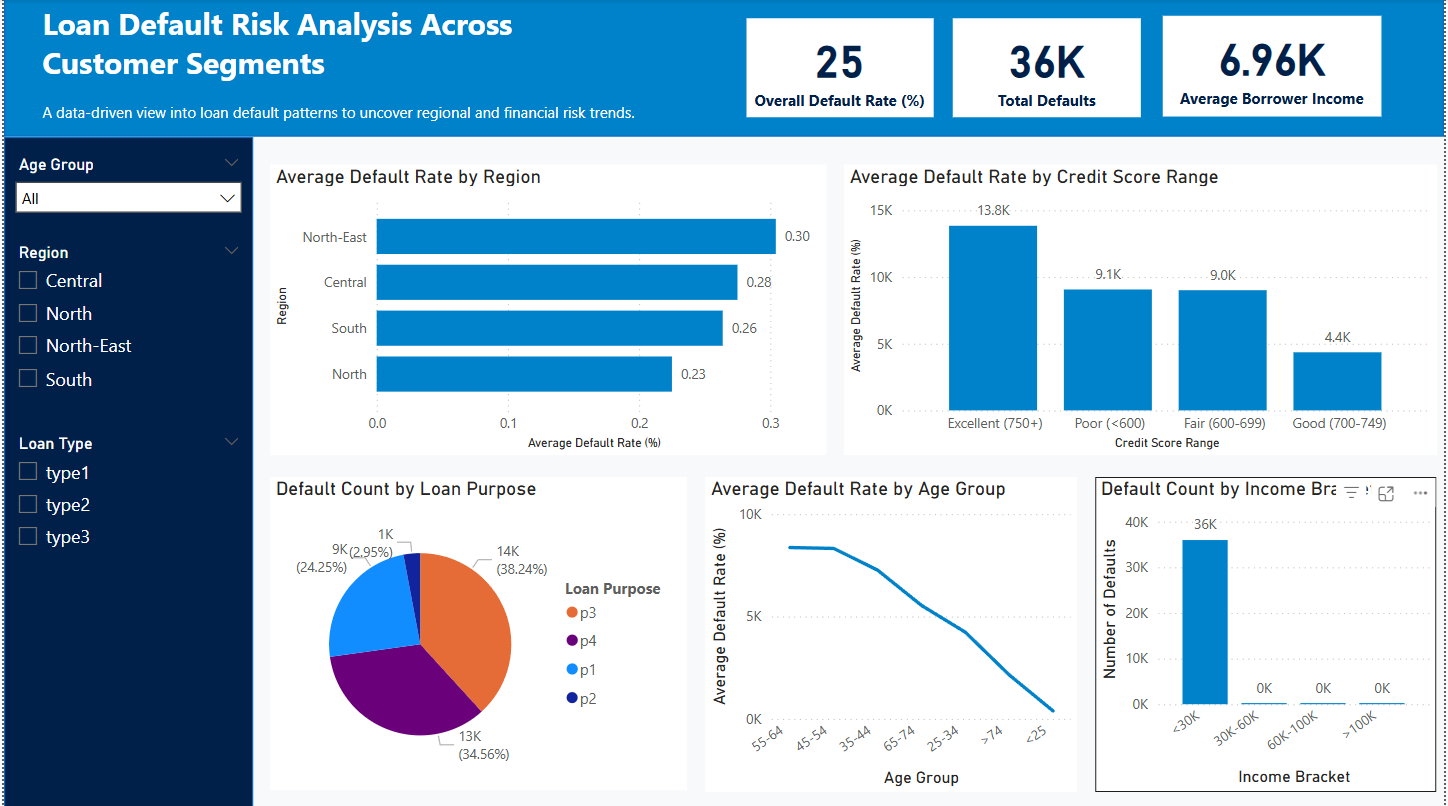

The page's visual inventory and layout, read from the dashboard file:
{"tool":"powerbi","page":{"name":"Page 1","canvas":[1280,720],"ordinal":0},"visuals":[{"type":"clusteredBarChart","title":"Average Default Rate by Region","fields":{"Y":["Avg(loan_default.default_flag)"],"Category":["loan_default.region"]},"box":[237.1,148.6,494.3,258.6],"z":0},{"type":"pieChart","title":"Default Count by Loan Purpose","fields":{"Category":["default_rate_by_loan_purpose.loan_purpose"],"Y":["Sum(default_rate_by_loan_purpose.defaults)"]},"box":[237.1,427.1,370,278.6],"z":1000},{"type":"clusteredColumnChart","title":"Average Default Rate by Credit Score Range","fields":{"Category":["default_rate_by_credit_score.credit_score_range"],"Y":["Avg(default_rate_by_credit_score.defaults)"]},"box":[747.1,148.6,527.1,258.6],"z":2000},{"type":"clusteredColumnChart","title":"Default Count by Income Bracket","fields":{"Category":["default_rate_by_income_bracket.income_bracket"],"Y":["Sum(default_rate_by_income_bracket.defaults)"]},"box":[970,427.1,302.9,280],"z":3000},{"type":"lineChart","title":"Average Default Rate by Age Group","fields":{"Category":["default_rate_by_age_group.age"],"Y":["Sum(default_rate_by_age_group.defaults)"]},"box":[622.9,427.1,330,280],"z":4000},{"type":"shape","box":[0,0,1280,124.3],"z":5000},{"type":"shape","box":[0,124.3,221.4,595.7],"z":6000},{"type":"textbox","box":[28.6,0,545.7,124.3],"z":7000},{"type":"slicer","fields":{"Values":["loan_default.region"]},"box":[0,213.4,221,153.3],"z":8000},{"type":"slicer","fields":{"Values":["loan_default.loan_type"]},"box":[0,383.3,221,117.5],"z":9000},{"type":"card","title":"jsakjs","fields":{"Values":["avg_loan_by_default_status.Overall Default Rate (%)"]},"box":[659.6,18.5,166.1,88.2],"z":10000},{"type":"card","fields":{"Values":["avg_loan_by_default_status.Total Defaults"]},"box":[843.5,18.5,167.4,88.2],"z":10001},{"type":"card","fields":{"Values":["avg_loan_by_default_status.Highest Risk Region"]},"box":[1030.1,17.2,194.2,89.4],"z":10002},{"type":"slicer","title":"Age","fields":{"Values":["default_rate_by_age_group.age"]},"box":[0,135.4,221,77.9],"z":10003}]}

Visuals, with their boxes in screenshot pixels (x1, y1, x2, y2):
"Average Default Rate by Region" clusteredBarChart: locate(272, 163, 838, 459)
"Default Count by Loan Purpose" pieChart: locate(272, 482, 696, 801)
"Average Default Rate by Credit Score Range" clusteredColumnChart: locate(856, 163, 1447, 459)
"Default Count by Income Bracket" clusteredColumnChart: locate(1112, 482, 1447, 803)
"Average Default Rate by Age Group" lineChart: locate(714, 482, 1092, 803)
shape: locate(0, 0, 1447, 135)
shape: locate(0, 135, 254, 805)
textbox: locate(33, 0, 658, 135)
slicer - loan_default.region: locate(0, 237, 253, 413)
slicer - loan_default.loan_type: locate(0, 432, 253, 566)
"jsakjs" card: locate(756, 14, 946, 115)
card - avg_loan_by_default_status.Total Defaults: locate(967, 14, 1158, 115)
card - avg_loan_by_default_status.Highest Risk Region: locate(1180, 12, 1403, 115)
"Age" slicer: locate(0, 148, 253, 237)
